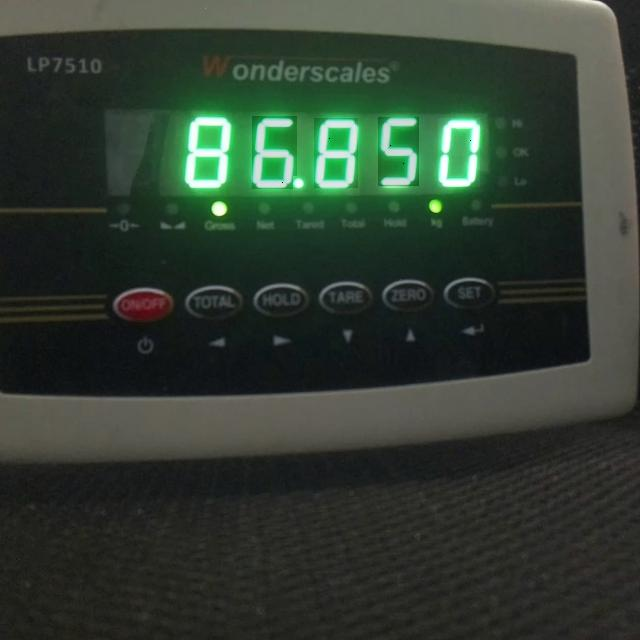.: (293, 176, 306, 190)
0: (438, 118, 480, 187)
5: (378, 118, 419, 188)
6: (252, 116, 297, 189)
8: (184, 115, 231, 188), (314, 118, 358, 188)
